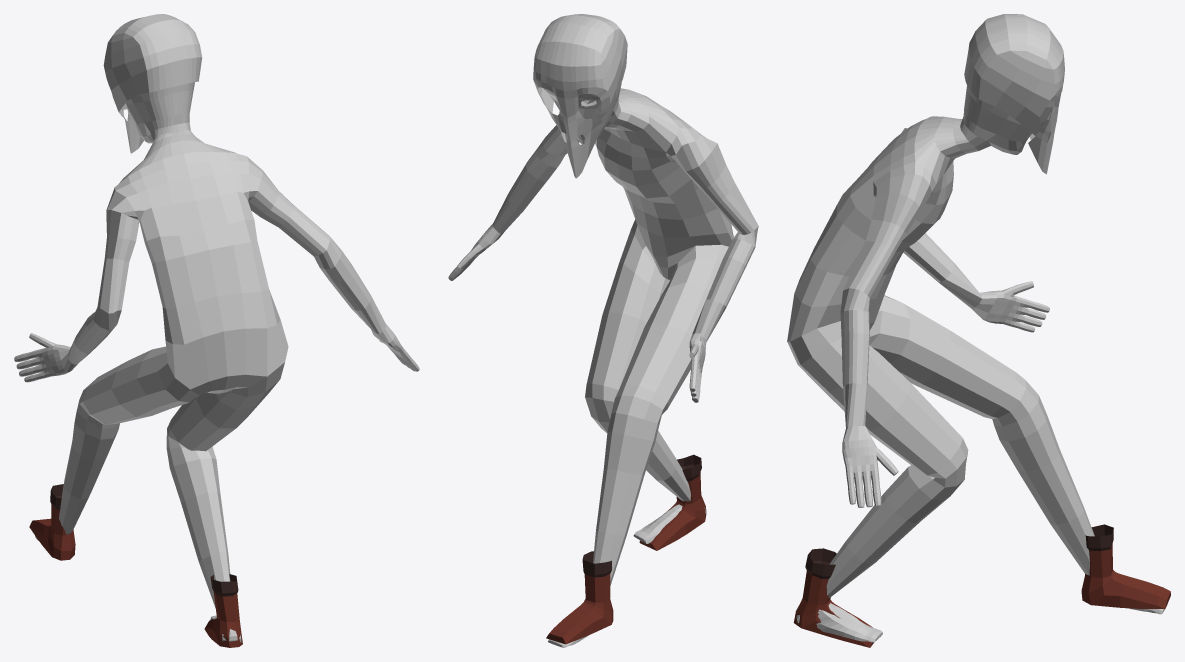
File: saltoadelante_000134.obj
The picture shows the model from 3 angles, left to right: view 1: azimuth 30°, elevation 25°; view 2: azimuth 150°, elevation 25°; view 3: azimuth 270°, elevation 25°; orthographic projection. The views are drawn at different scales.
Parts seen in each view (by area): view 1: Plane.002_Plane.001, Plane.003, Plane.004; view 2: Plane.002_Plane.001, Plane.004, Plane.003; view 3: Plane.002_Plane.001, Plane.004, Plane.003.
Part boxes in pixels (box(x1,y1,x2,y2)): Plane.002_Plane.001: box(14, 14, 419, 642); Plane.003: box(204, 574, 242, 647); Plane.004: box(29, 484, 75, 560); Plane.002_Plane.001: box(448, 14, 758, 647); Plane.004: box(546, 551, 613, 644); Plane.003: box(639, 454, 706, 550); Plane.002_Plane.001: box(787, 14, 1167, 642); Plane.004: box(1081, 524, 1170, 609); Plane.003: box(793, 548, 874, 647).
Bounding box in the file's own units: 3.43 × 5.78 × 3.23.
